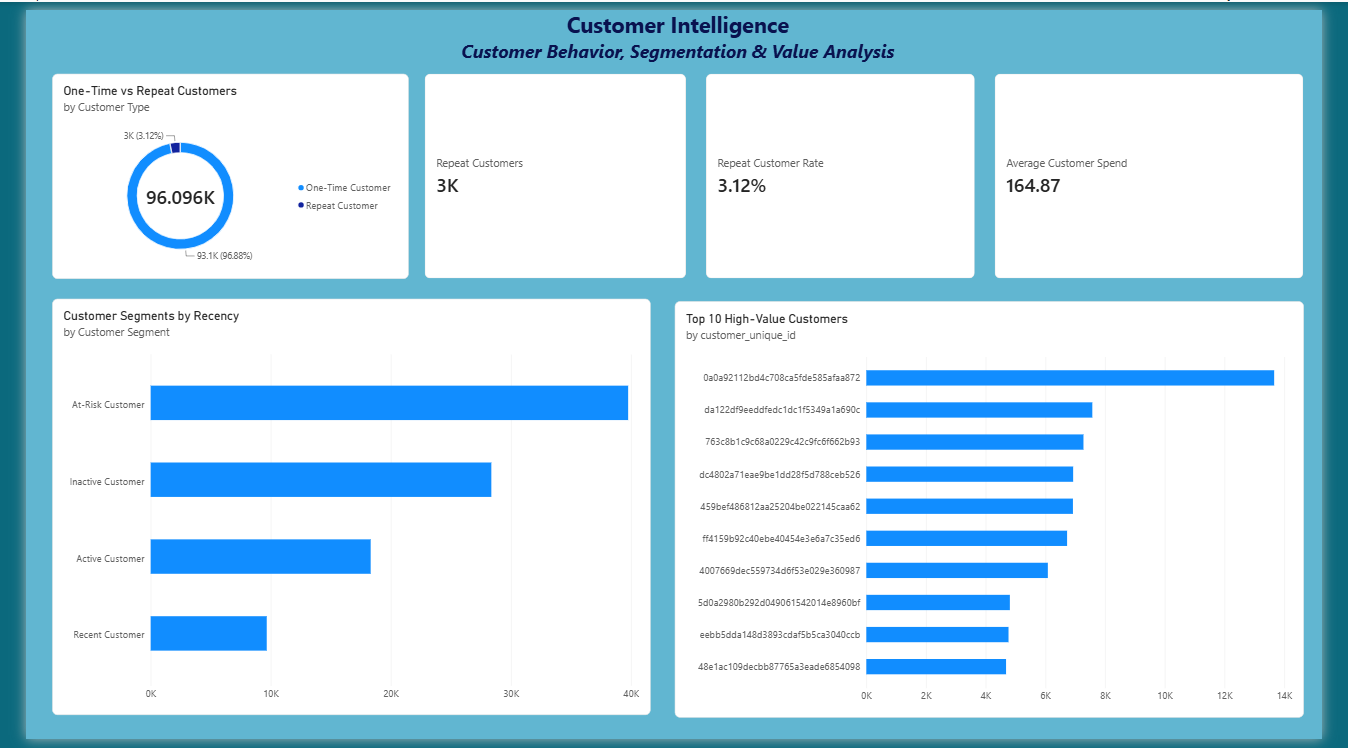

Layout of this report page (visuals, bound fields, positions):
{"tool":"powerbi","page":{"name":"Customer Intelligence","canvas":[1920,1080],"ordinal":1},"visuals":[{"type":"cardVisual","fields":{"Data":["Sum(customer_analytics.repeat_customer)"]},"box":[590.7,94.4,387,303.7],"z":0},{"type":"cardVisual","fields":{"Data":["customer_analytics.Repeat Customer Rate"]},"box":[1007.4,94.4,398.1,303.7],"z":1000},{"type":"cardVisual","fields":{"Data":["Avg(customer_analytics.total_spend)"]},"box":[1435.2,94.4,457.4,303.7],"z":2000},{"type":"donutChart","fields":{"Category":["customer_analytics.Customer Type"],"Y":["Count(customer_analytics.customer_unique_id)"]},"box":[38.9,94.4,527.8,303.7],"z":3000},{"type":"barChart","fields":{"Category":["customer_analytics.Customer Segment"],"Y":["Count(customer_analytics.customer_unique_id)"]},"box":[39.6,428.3,886.8,617],"z":4000},{"type":"barChart","fields":{"Category":["customer_analytics.customer_unique_id"],"Y":["Sum(customer_analytics.total_spend)"]},"box":[960.4,432.1,932.1,617],"z":5000},{"type":"textbox","box":[38.9,0,1853.7,94.4],"z":5001}]}

Visuals, with their boxes in screenshot pixels (x1, y1, x2, y2), scaled from the page's 1920x1080 canvas onto the 1348x748 screenshot:
cardVisual - Sum(customer_analytics.repeat_customer): bbox=[415, 65, 686, 276]
cardVisual - customer_analytics.Repeat Customer Rate: bbox=[707, 65, 987, 276]
cardVisual - Avg(customer_analytics.total_spend): bbox=[1008, 65, 1329, 276]
donutChart - customer_analytics.Customer Type x Count(customer_analytics.customer_unique_id): bbox=[27, 65, 398, 276]
barChart - customer_analytics.Customer Segment x Count(customer_analytics.customer_unique_id): bbox=[28, 297, 650, 724]
barChart - customer_analytics.customer_unique_id x Sum(customer_analytics.total_spend): bbox=[674, 299, 1329, 727]
textbox: bbox=[27, 0, 1329, 65]
